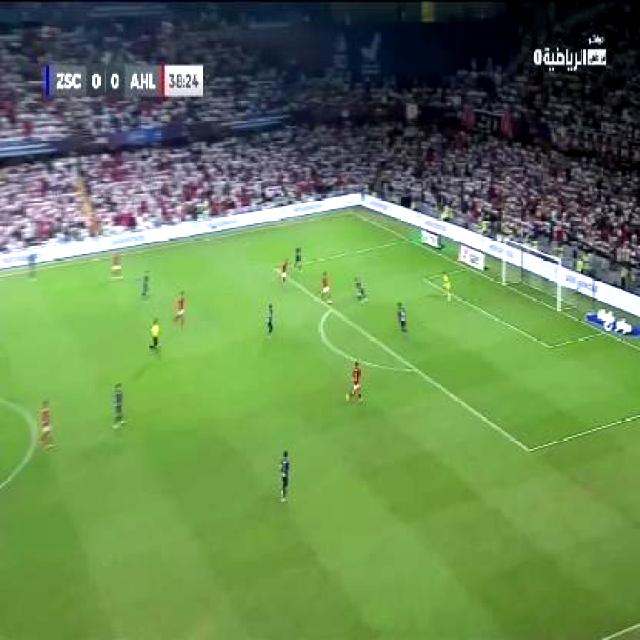bigarea_bottom_inner: (520, 438, 537, 460)
bigarea_top_inner: (269, 260, 283, 275)
bigarea_top_outter: (401, 232, 414, 245)
bottom_arc_area_intersection: (408, 360, 422, 377)
smallarea_bottom_inner: (541, 335, 557, 354)
smallarea_bottom_outter: (598, 324, 611, 338)
smallarea_top_inner: (418, 271, 429, 283)
smallarea_top_outter: (460, 260, 474, 274)
top_arc_area_intersection: (323, 298, 337, 316)
